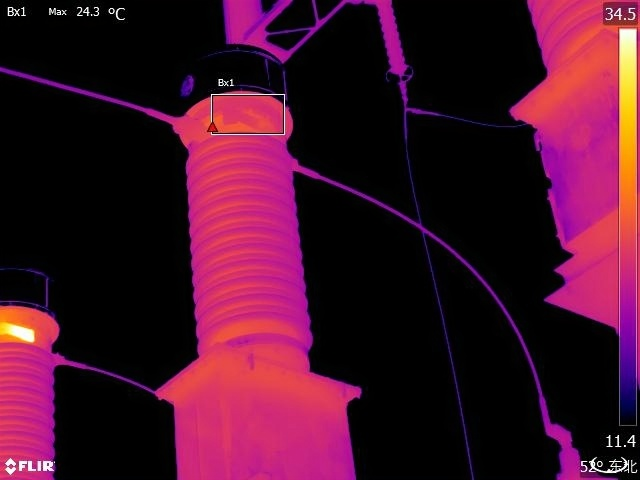current transformer: (142, 40, 378, 415), (513, 1, 640, 272), (1, 239, 91, 480)
insulator: (366, 1, 420, 84)
